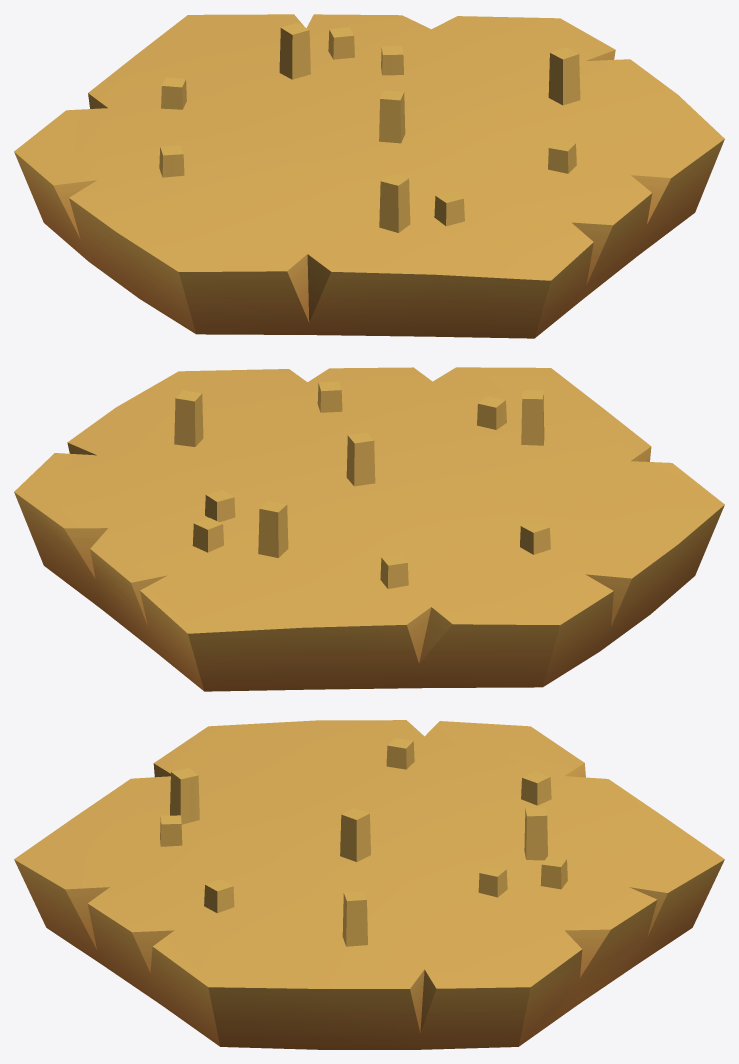
File: building_grain.glb
3 renders of one model, top to bottom at view 1: azimuth 30°, elevation 25°; view 2: azimuth 150°, elevation 25°; view 3: azimuth 270°, elevation 25°, orthographic. The views are drawn at different scales.
Visible parts, largest first — view 1: building_grain; view 2: building_grain; view 3: building_grain.
Boxes of the visible parts, x1,y1,x2,y2 form: building_grain: (14,14,724,338); building_grain: (14,367,724,691); building_grain: (14,720,724,1049).
Size of the model in its own units: 1.87 by 0.3938 by 2.09.
1 material, 1 textured.
